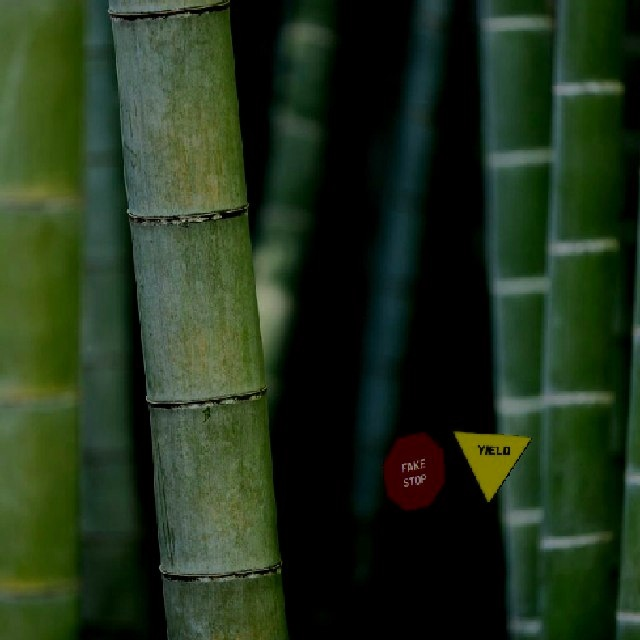FAKE_STOP: (380, 429, 445, 511)
YIELD: (450, 429, 532, 504)
